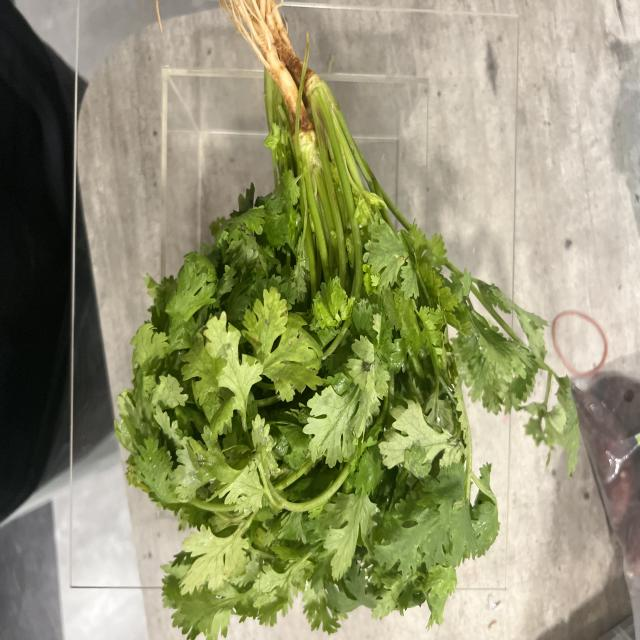cilantro: (130, 0, 533, 623)
